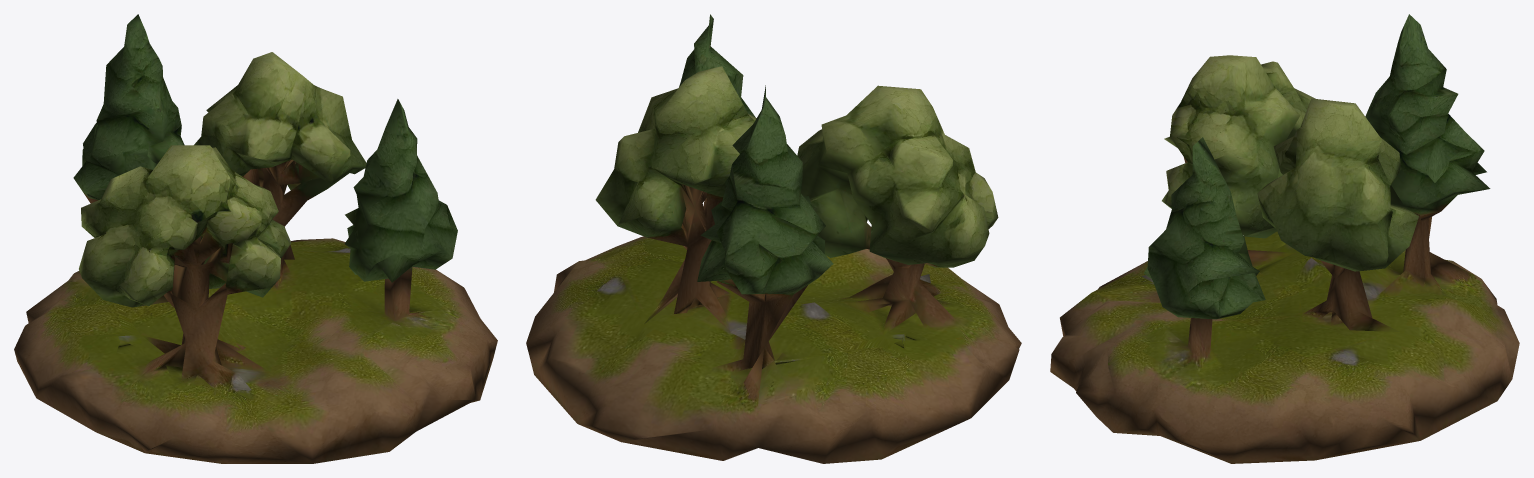
File: tree_cluster.glb
The picture shows the model from 3 angles, left to right: view 1: azimuth 30°, elevation 25°; view 2: azimuth 150°, elevation 25°; view 3: azimuth 270°, elevation 25°; orthographic projection. The views are drawn at different scales.
Parts seen in each view (by area): view 1: tripo_node_3993cd6a-188b-4607-b47d-238ce9df1ee7; view 2: tripo_node_3993cd6a-188b-4607-b47d-238ce9df1ee7; view 3: tripo_node_3993cd6a-188b-4607-b47d-238ce9df1ee7.
Part boxes in pixels (box(x1,y1,x2,y2)): tripo_node_3993cd6a-188b-4607-b47d-238ce9df1ee7: box(14, 14, 497, 463); tripo_node_3993cd6a-188b-4607-b47d-238ce9df1ee7: box(526, 14, 1021, 463); tripo_node_3993cd6a-188b-4607-b47d-238ce9df1ee7: box(1050, 14, 1519, 463).
Size of the model in its own units: 1 by 0.7571 by 0.9924.
1 material, 1 textured.
